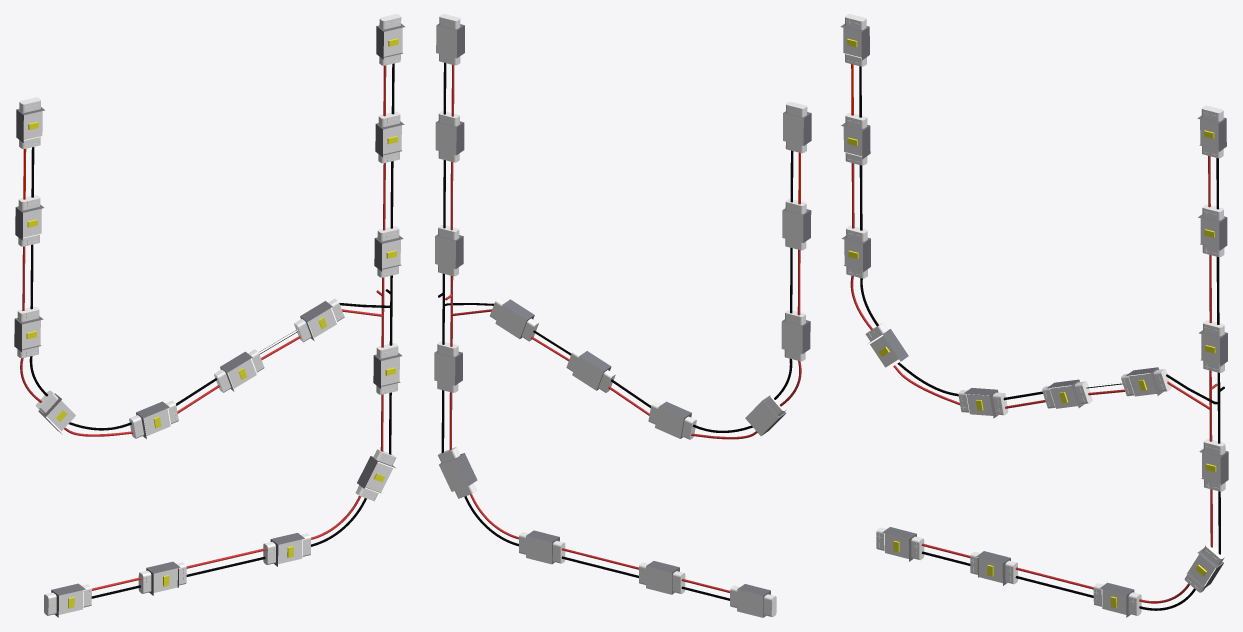
The model's file is fixed-led.glb.
3 renders of one model, left to right at view 1: azimuth 30°, elevation 25°; view 2: azimuth 150°, elevation 25°; view 3: azimuth 330°, elevation 25°, orthographic. The views are drawn at different scales.
Visible parts, largest first — view 1: FIXED-LED; view 2: FIXED-LED; view 3: FIXED-LED.
Boxes of the visible parts, <box> form: FIXED-LED: <box>14,14,404,617</box>; FIXED-LED: <box>434,14,811,617</box>; FIXED-LED: <box>840,14,1228,617</box>.
Bounding box in the file's own units: 35.3 × 46.68 × 2.45.
